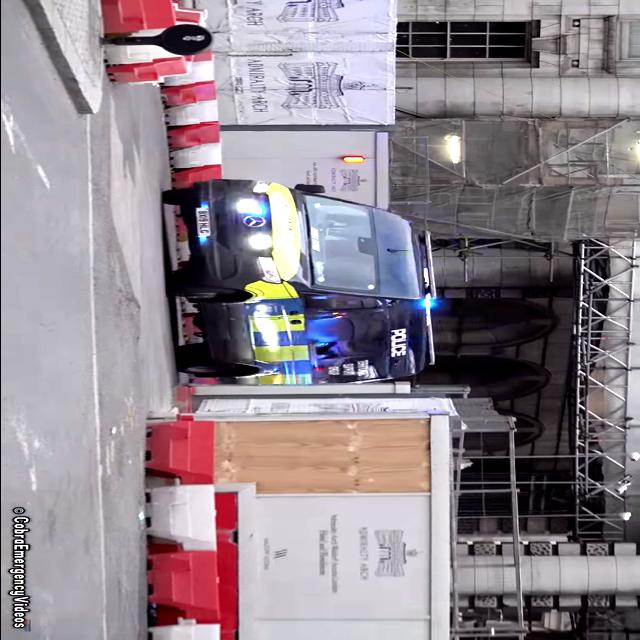emergency-vehicles: (148, 170, 450, 392)
